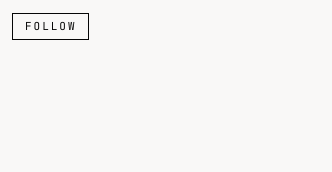
Test: FollowButton › clicking Follow calls API and shows Following
Click the button at (51, 26), box [12, 13, 90, 40]
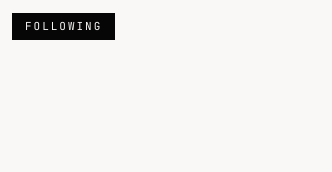
Expected: the button reads "FOLLOWING", [12, 13, 115, 40]
